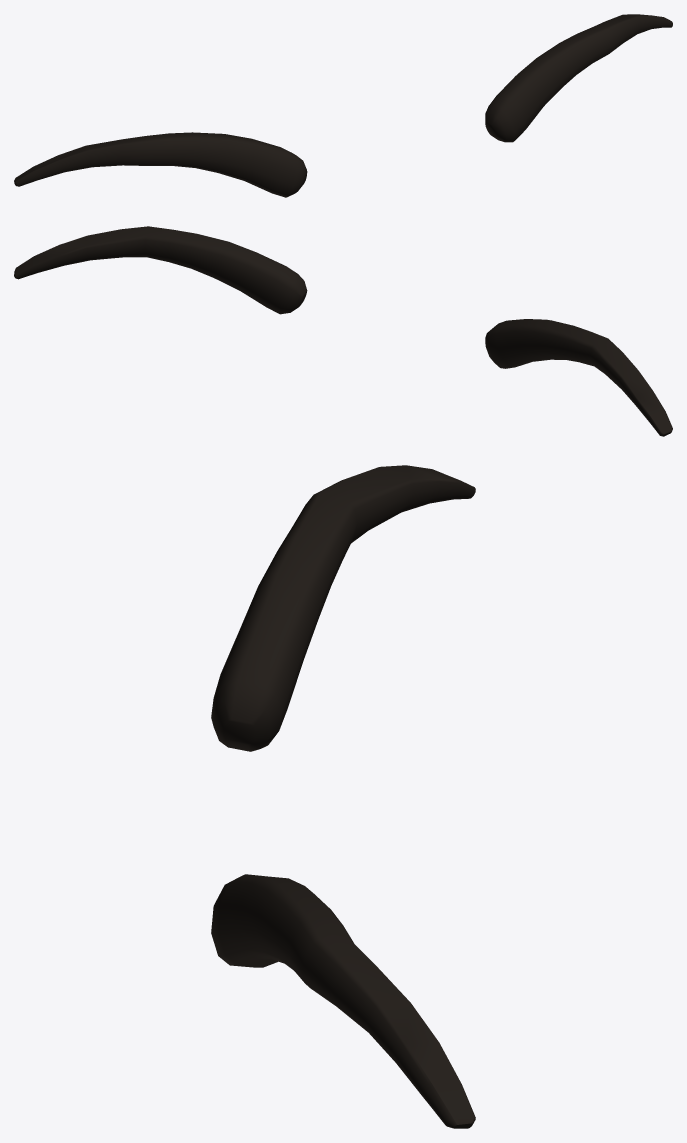
File: Eyebrows_30_01.fbx
3 renders of one model, top to bottom at view 1: azimuth 30°, elevation 25°; view 2: azimuth 150°, elevation 25°; view 3: azimuth 270°, elevation 25°, orthographic. The views are drawn at different scales.
Visible parts, largest first — view 1: Eyebrows_30_01; view 2: Eyebrows_30_01; view 3: Eyebrows_30_01.
Part boxes in pixels (x1,y1,x2,y2): Eyebrows_30_01: (14,14,672,197); Eyebrows_30_01: (14,226,672,436); Eyebrows_30_01: (211,465,475,1128).
Bounding box in the file's own units: 19.88 × 2.07 × 3.47.
